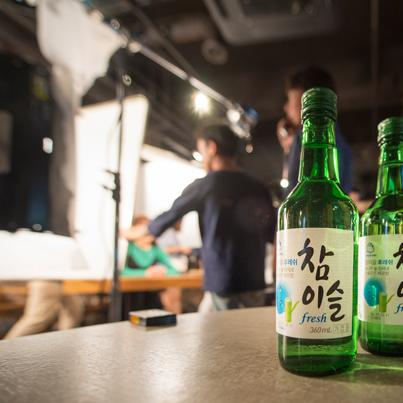soju: (271, 87, 400, 377)
